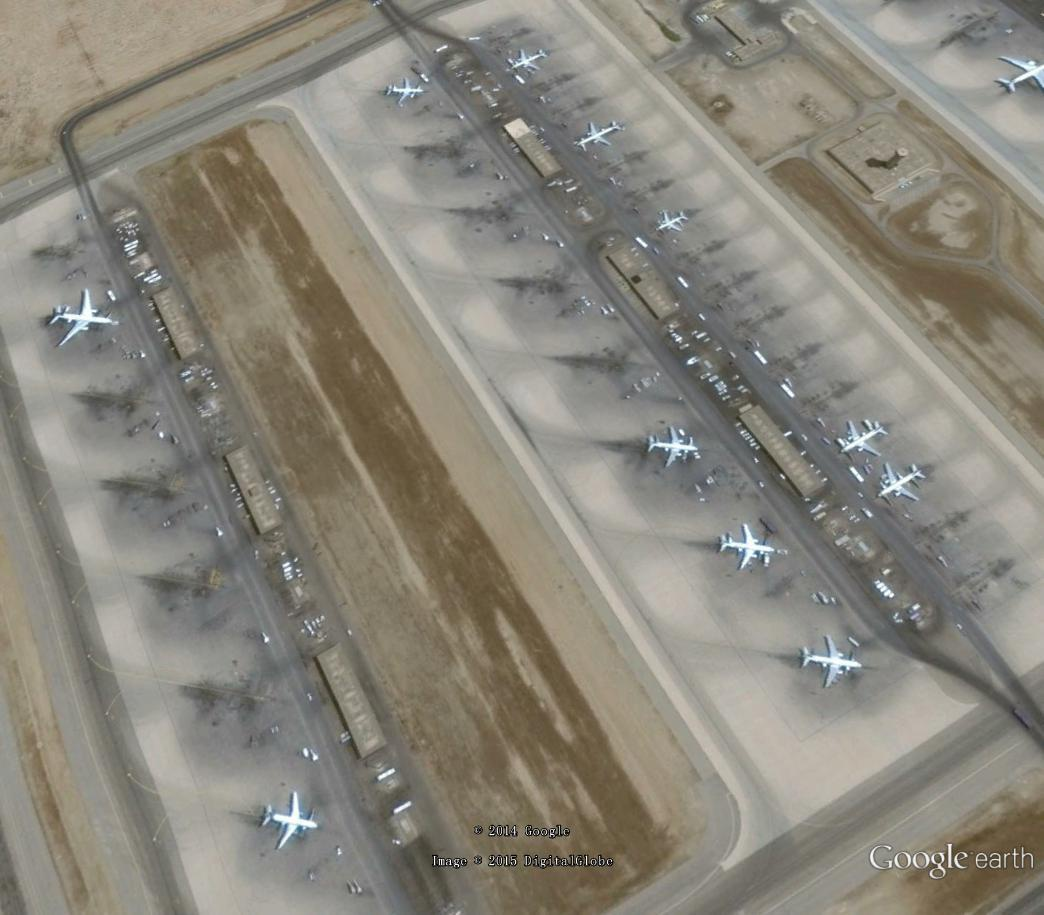aircraft: (793, 631, 867, 694), (45, 286, 115, 352), (711, 520, 780, 577), (259, 790, 321, 853), (639, 420, 700, 472), (993, 49, 1044, 96), (574, 118, 627, 153), (508, 40, 552, 78), (384, 75, 427, 108), (655, 204, 691, 241)
